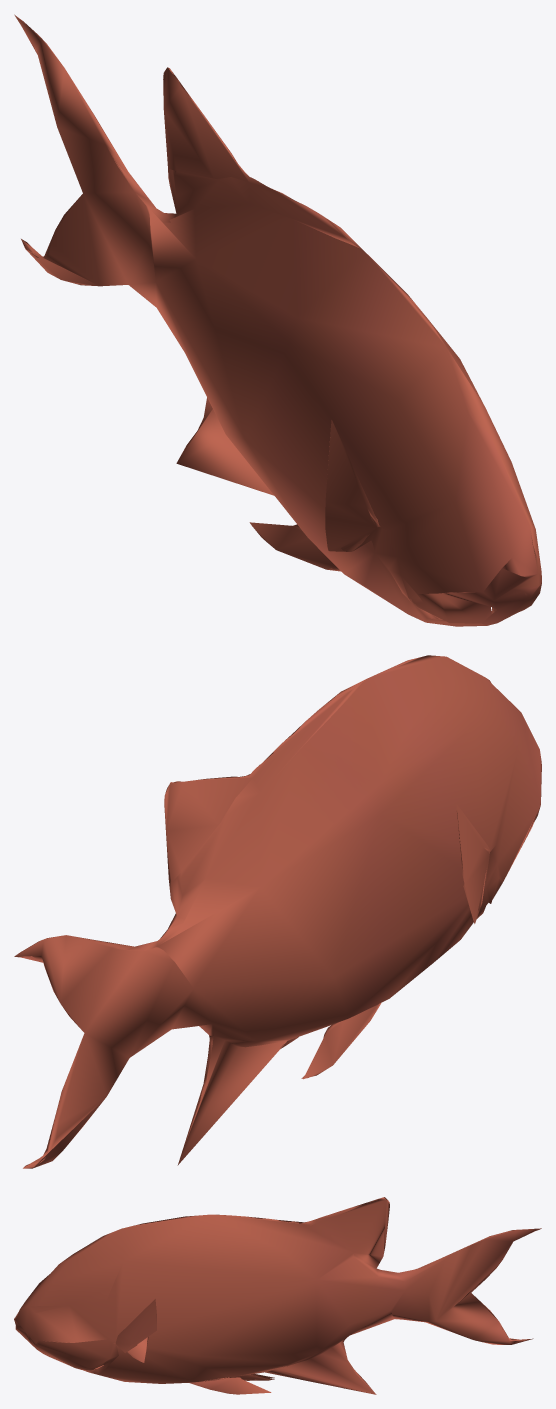
Rendered from fish.fbx.
The picture shows the model from 3 angles, top to bottom: view 1: azimuth 30°, elevation 25°; view 2: azimuth 150°, elevation 25°; view 3: azimuth 270°, elevation 25°; orthographic projection. The views are drawn at different scales.
Parts seen in each view (by area): view 1: _13007_Blue_Green_Reef_Chromis_v1; view 2: _13007_Blue_Green_Reef_Chromis_v1; view 3: _13007_Blue_Green_Reef_Chromis_v1.
Boxes of the visible parts, x1,y1,x2,y2 form: _13007_Blue_Green_Reef_Chromis_v1: (14,14,541,626); _13007_Blue_Green_Reef_Chromis_v1: (14,655,541,1168); _13007_Blue_Green_Reef_Chromis_v1: (14,1197,541,1394).
Size of the model in its own units: 122 by 317 by 768.
